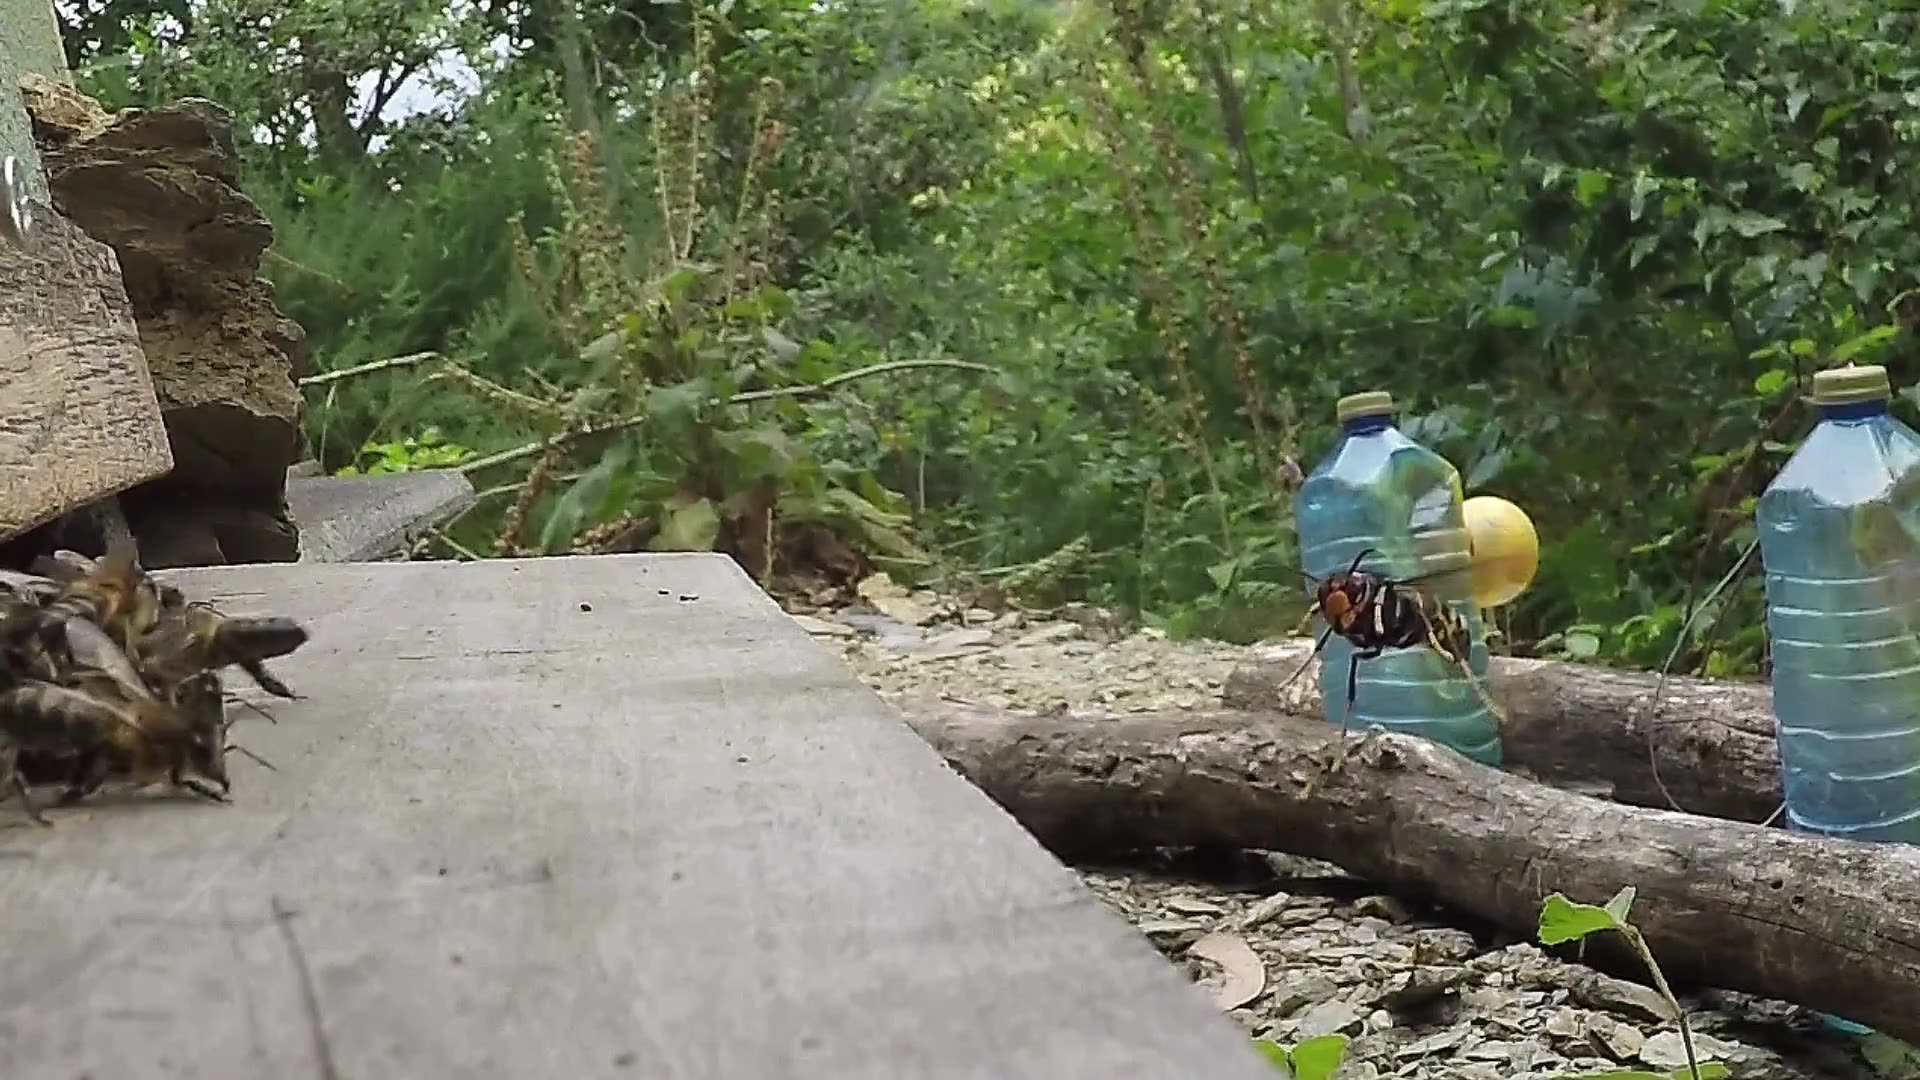bee: (3, 553, 264, 819), (127, 582, 328, 692)
hornet: (1300, 549, 1477, 674)
